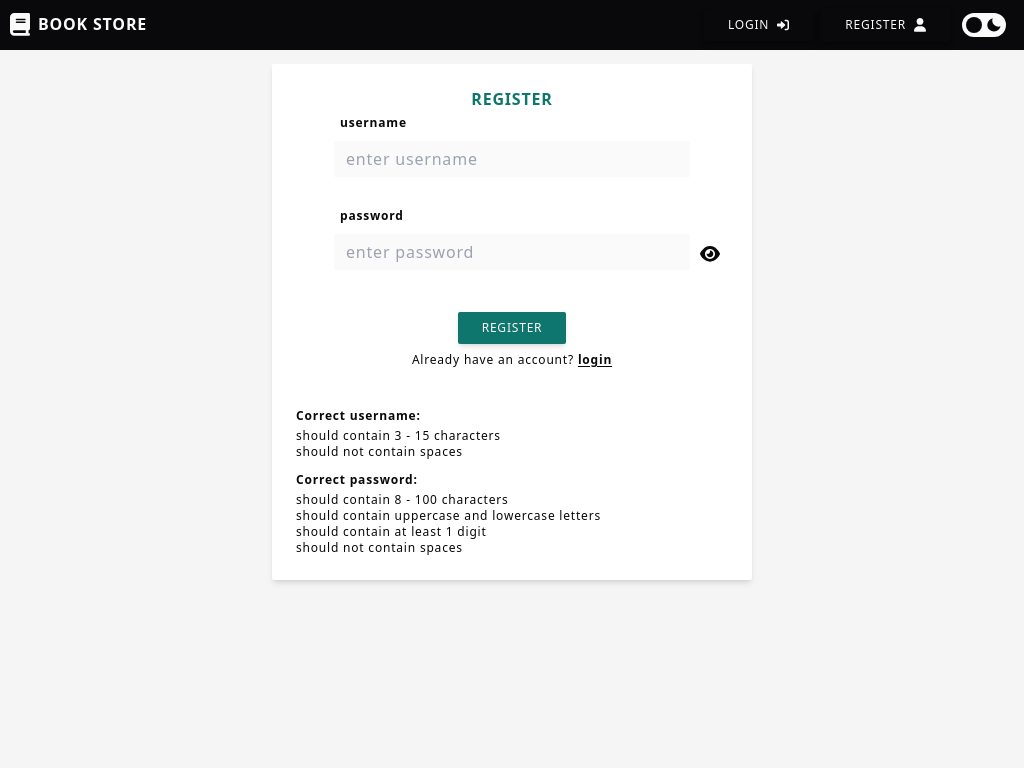
Test: Routing › Redirect register to login
expect the heading "REGISTER" is shown: met, box [471, 88, 553, 110]
Click the button "login".
click(759, 25)  # box [704, 9, 813, 41]
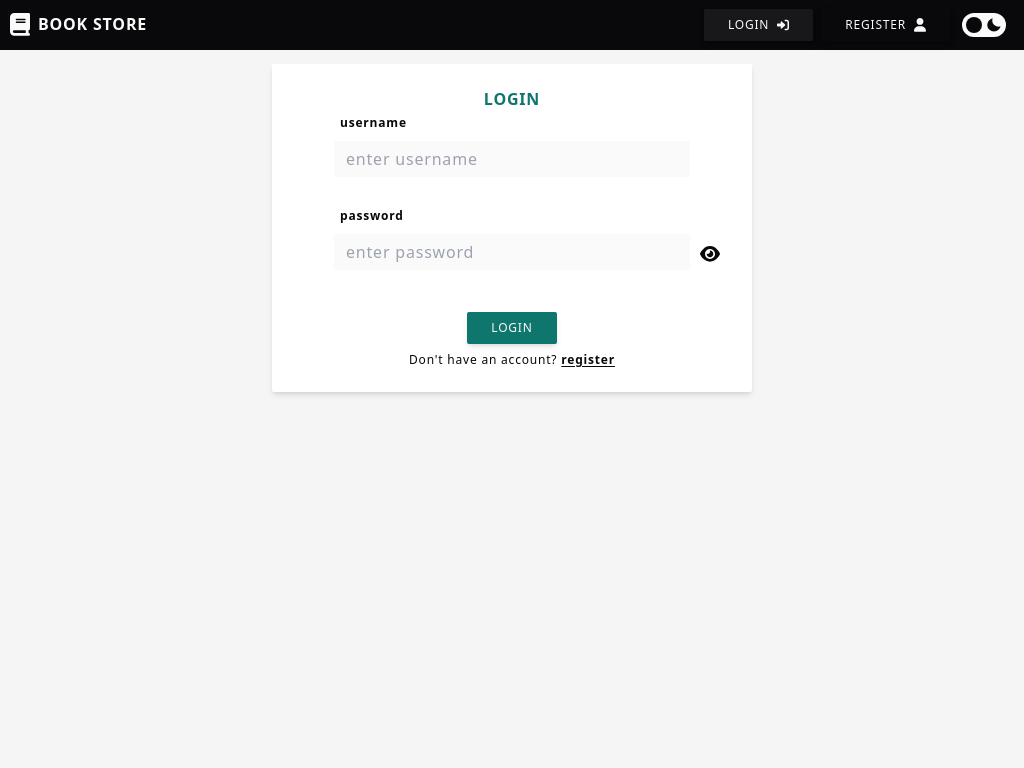
expect the heading "LOGIN" is shown: met, box [484, 88, 540, 110]
